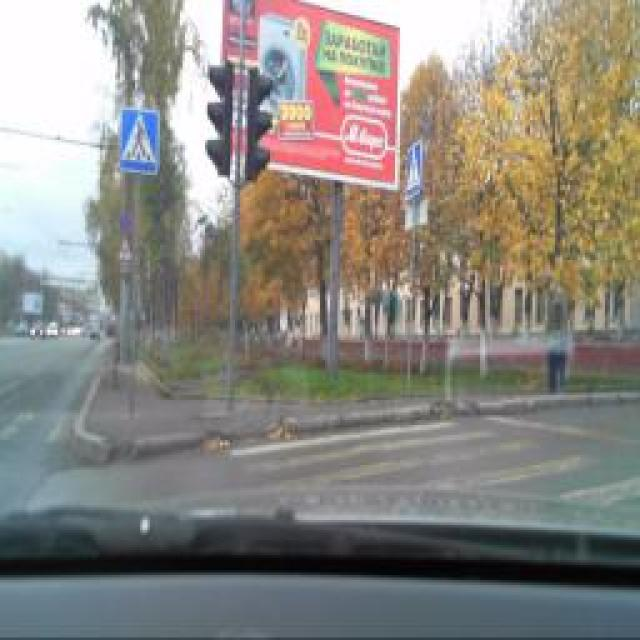sign: (120, 207, 135, 235)
